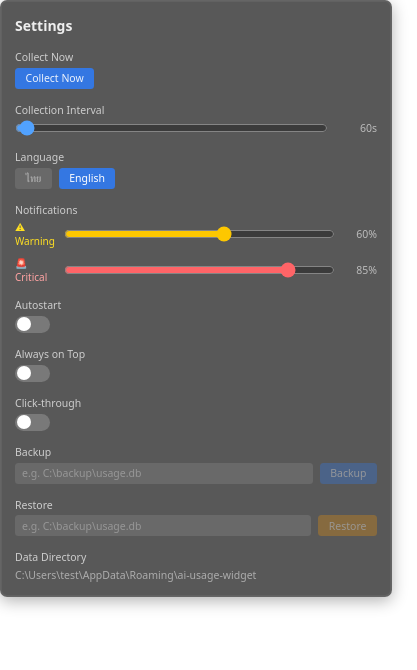
Test case: Settings › reverts the slider and shows the error when the backend rejects
Set the slider labelled "⚠ Warning" to "95". click: (314, 234)
box: 64,226 -> 335,242
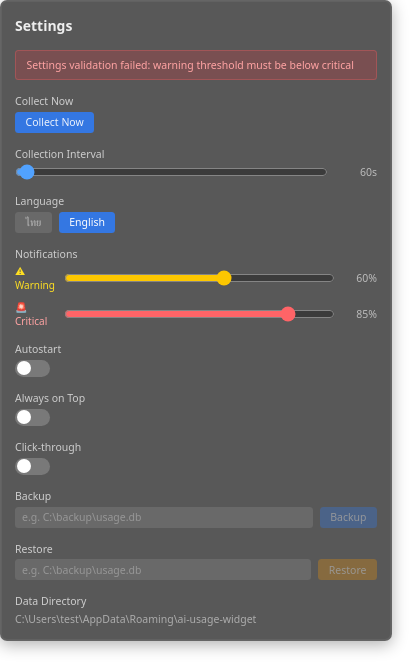
Expected: the text "60%" is shown, 356,271 -> 377,285
Expected: the text "warning threshold must be below critical" is shown, 26,58 -> 354,72
